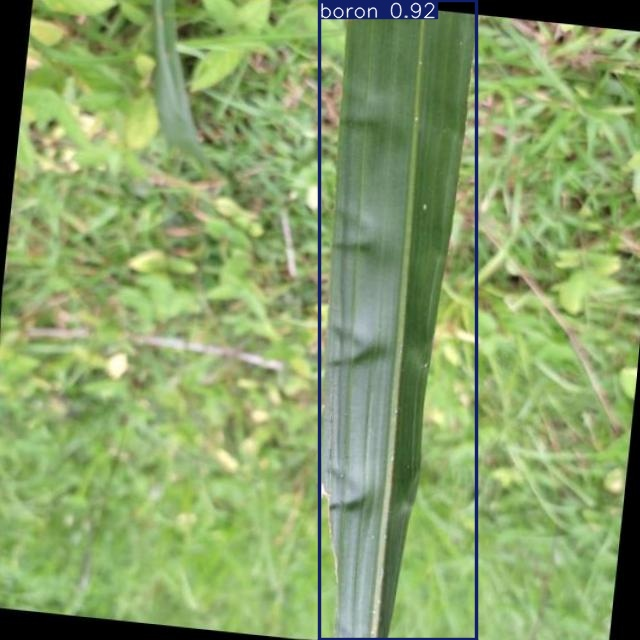nitrogen: (319, 1, 476, 640)
